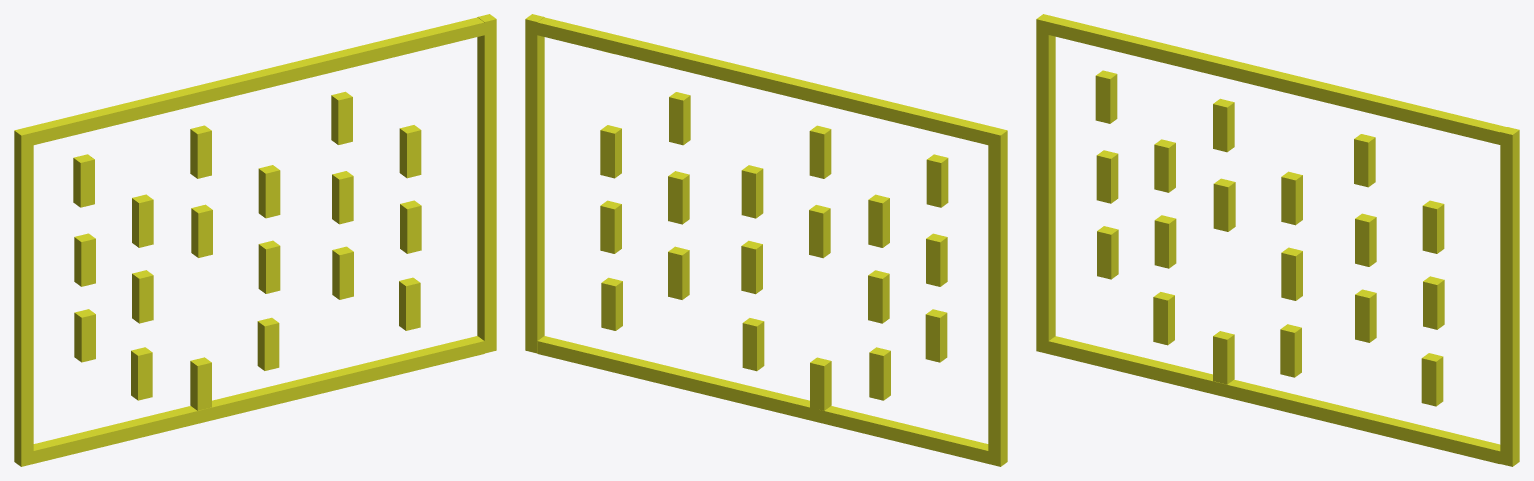
File: Barriers_easy_env.dae
3 views of the same model, side by side, from view 1: azimuth 30°, elevation 25°; view 2: azimuth 150°, elevation 25°; view 3: azimuth 330°, elevation 25° (orthographic).
Visible parts, largest first — view 1: Group_1 (×19); view 2: Group_1 (×19); view 3: Group_1 (×19).
Boxes of the visible parts, left/top/right/bottom form: Group_1 (×19): left=14, top=14, right=496, bottom=466; Group_1 (×19): left=525, top=14, right=1007, bottom=466; Group_1 (×19): left=1036, top=14, right=1519, bottom=466.
Bounding box in the file's own units: 661 × 17.37 × 441.
